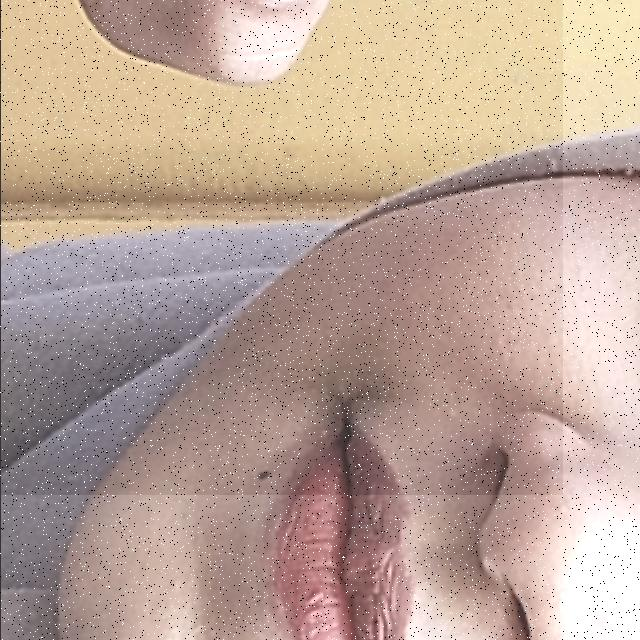baik: (0, 0, 562, 495)
